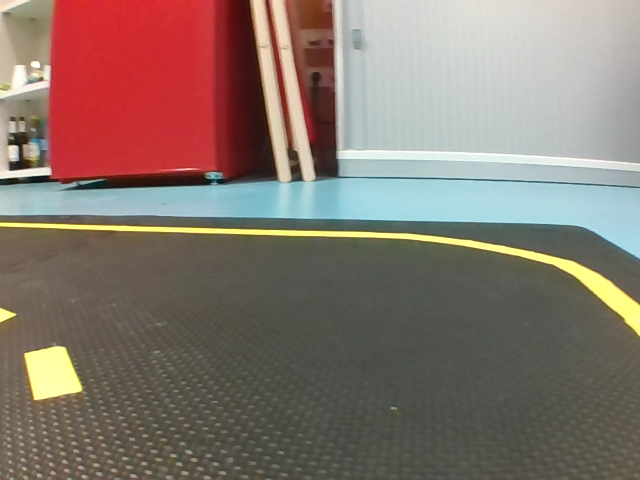stop: (202, 94, 252, 138)
